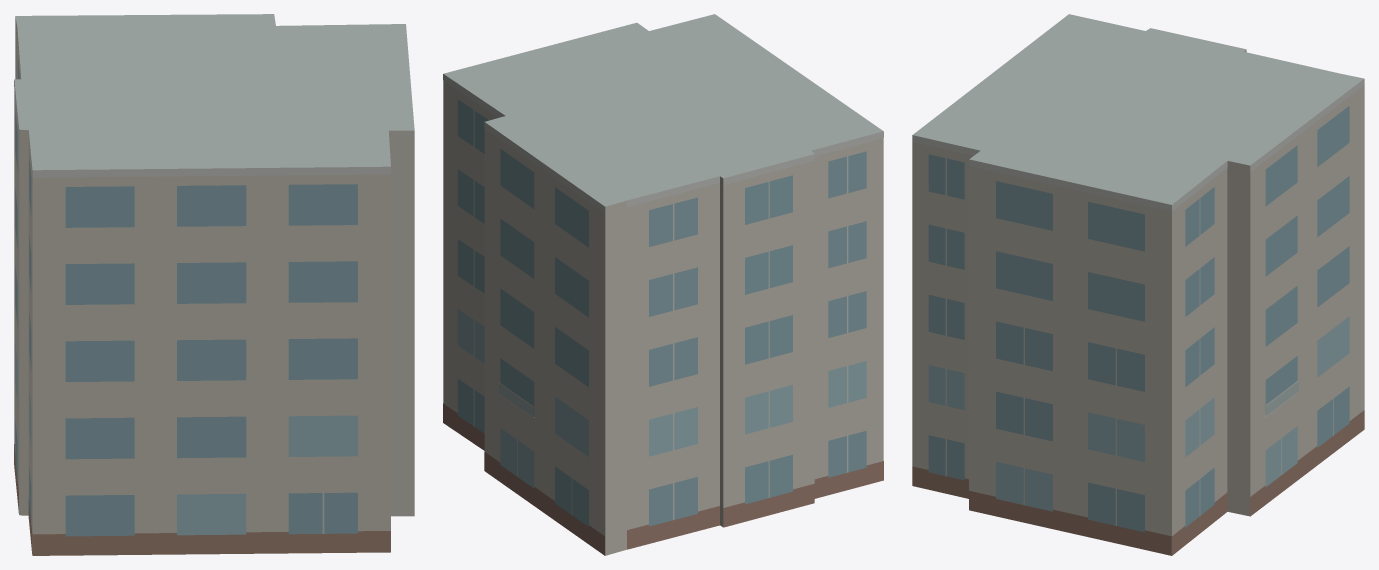
File: survey-upis-32660091.glb
3 renders of one model, left to right at view 1: azimuth 30°, elevation 25°; view 2: azimuth 150°, elevation 25°; view 3: azimuth 270°, elevation 25°, orthographic. The views are drawn at different scales.
Visible parts, largest first — view 1: survey-upis-32660091.tmp; view 2: survey-upis-32660091.tmp; view 3: survey-upis-32660091.tmp.
Boxes of the visible parts, box(x1,y1,x2,y2) form: survey-upis-32660091.tmp: box(14, 14, 414, 555); survey-upis-32660091.tmp: box(443, 14, 883, 555); survey-upis-32660091.tmp: box(912, 14, 1364, 555).
Size of the model in its own units: 14.71 by 12.6 by 14.72.
